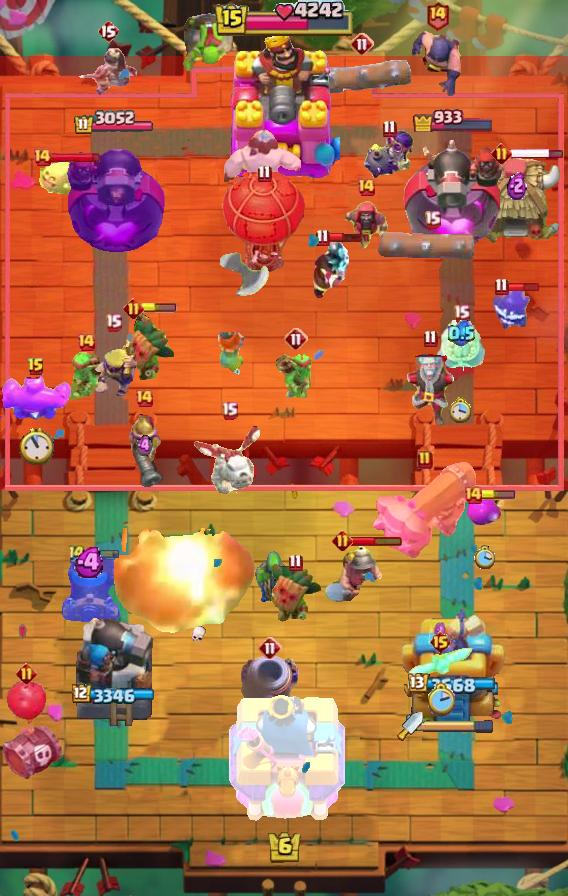axe: (213, 250, 269, 306)
bar: (509, 147, 564, 160), (50, 151, 101, 164), (350, 535, 403, 547), (85, 548, 120, 560), (506, 281, 541, 293), (327, 232, 363, 243), (480, 490, 516, 500), (141, 303, 177, 313)
bar-level: (425, 0, 450, 31), (258, 636, 282, 660), (284, 327, 308, 351), (350, 32, 374, 56), (429, 630, 452, 654), (97, 19, 119, 43), (16, 663, 37, 684), (332, 530, 353, 551), (123, 298, 144, 319), (491, 143, 512, 164), (67, 543, 87, 564), (463, 485, 483, 505), (134, 388, 154, 408), (76, 332, 96, 352), (356, 177, 376, 197), (32, 147, 52, 167), (27, 357, 45, 377), (221, 401, 238, 420), (105, 313, 122, 332), (453, 304, 470, 323), (424, 210, 441, 229), (417, 450, 433, 470), (288, 553, 303, 572), (423, 329, 438, 348), (494, 277, 509, 296), (315, 228, 330, 247), (257, 164, 272, 183), (382, 119, 397, 138)
barbarian-evolution: (87, 334, 139, 396)
bat-evolution: (406, 646, 474, 678)
bomber-evolution: (363, 128, 415, 182)
cannoneer-tower: (400, 132, 507, 256), (62, 138, 166, 256), (71, 611, 157, 731)
clock: (19, 427, 54, 465), (426, 682, 455, 716), (449, 396, 473, 423), (474, 545, 495, 570)
dagger-duchess-tower: (401, 601, 505, 731)
dagger-duchess-tower-bar: (423, 719, 495, 733)
dart-goblin: (118, 310, 176, 386), (267, 561, 323, 625)
electro-spirit: (492, 285, 536, 333)
electro-wizard: (309, 241, 355, 301)
elixir: (74, 547, 107, 578), (448, 320, 475, 347), (507, 170, 527, 200), (136, 434, 152, 458), (434, 622, 447, 638)
elixir-golem-mid: (0, 373, 72, 423)
elixir-golem-small: (466, 497, 502, 527)
executioner: (411, 29, 463, 101)
goblin-ball: (180, 12, 234, 74)
heal-spirit: (35, 157, 75, 195)
ice-wizard: (390, 349, 470, 427)
king-tower: (228, 29, 340, 181), (223, 689, 345, 826)
king-tower-bar: (213, 0, 355, 40)
miner: (323, 537, 385, 605)
mortar: (60, 558, 120, 622)
mortar-evolution: (238, 654, 302, 724)
musketeer: (123, 403, 165, 491)
princess: (77, 46, 139, 98)
spear-goblin: (254, 549, 294, 607), (276, 349, 316, 401), (69, 352, 103, 400)
the-log: (378, 228, 486, 264), (313, 60, 411, 96)
tower-bar: (412, 106, 495, 132), (73, 110, 155, 136), (408, 673, 498, 696), (72, 684, 157, 706)
valkyrie: (213, 326, 251, 378)
wizard: (340, 199, 392, 255)
